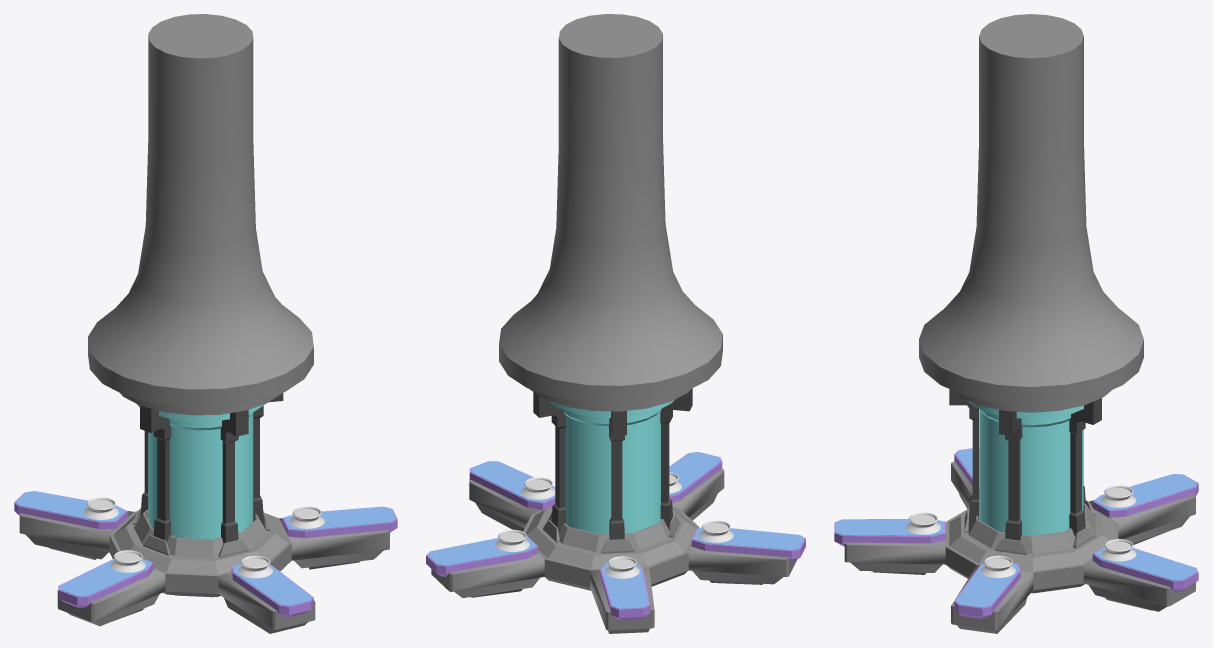
File: mesafull.FBX
3 renders of one model, left to right at view 1: azimuth 30°, elevation 25°; view 2: azimuth 150°, elevation 25°; view 3: azimuth 270°, elevation 25°, orthographic.
Visible parts, largest first — view 1: tuboSup, Box007, tuboEmmitter001, mesaTub001, barraTubo004, barraTubo, mwsaCristal001, mwsaCristal004, mwsaCristal003, mwsaCristal, mesaSopCrist001, mesaSopCrist003 (+7 smaller); view 2: tuboSup, Box007, tuboEmmitter001, mesaTub001, barraTubo002, barraTubo003, barraTubo004, mwsaCristal004, mwsaCristal002, mwsaCristal003, mwsaCristal001, mwsaCristal (+8 smaller); view 3: tuboSup, Box007, tuboEmmitter001, mesaTub001, barraTubo001, barraTubo002, mwsaCristal, mwsaCristal002, mwsaCristal003, mwsaCristal001, barraTubo, mesaSopCrist002 (+7 smaller).
Part boxes in pixels (x1,y1,x2,y2): tuboSup: [88, 14, 313, 415]; Box007: [19, 511, 389, 633]; tuboEmmitter001: [137, 404, 265, 539]; mesaTub001: [113, 508, 287, 574]; barraTubo004: [140, 405, 171, 542]; barraTubo: [220, 409, 248, 543]; mwsaCristal001: [284, 506, 396, 530]; mwsaCristal004: [59, 558, 151, 596]; mwsaCristal003: [16, 491, 125, 521]; mwsaCristal: [233, 564, 311, 606]; mesaSopCrist001: [282, 506, 397, 538]; mesaSopCrist003: [14, 491, 127, 528]; tuboSup: [499, 14, 722, 411]; Box007: [431, 469, 797, 633]; tuboEmmitter001: [550, 399, 674, 534]; mesaTub001: [525, 507, 696, 568]; barraTubo002: [533, 392, 566, 532]; barraTubo003: [609, 411, 626, 539]; barraTubo004: [660, 388, 692, 529]; mwsaCristal004: [693, 528, 804, 550]; mwsaCristal002: [427, 537, 536, 565]; mwsaCristal003: [601, 563, 648, 608]; mwsaCristal001: [471, 461, 555, 502]; mwsaCristal: [669, 452, 720, 496]; tuboSup: [919, 14, 1143, 412]; Box007: [844, 461, 1195, 633]; tuboEmmitter001: [967, 400, 1083, 535]; mesaTub001: [949, 500, 1114, 571]; barraTubo001: [999, 410, 1022, 540]; barraTubo002: [1069, 398, 1101, 536]; mwsaCristal: [835, 519, 944, 536]; mwsaCristal002: [1094, 547, 1196, 580]; mwsaCristal003: [1094, 474, 1196, 510]; mwsaCristal001: [956, 563, 1019, 607]; barraTubo: [949, 389, 978, 528]; mesaSopCrist002: [1092, 547, 1198, 591].
Bounding box in the file's own units: 931 × 1426 × 885.
